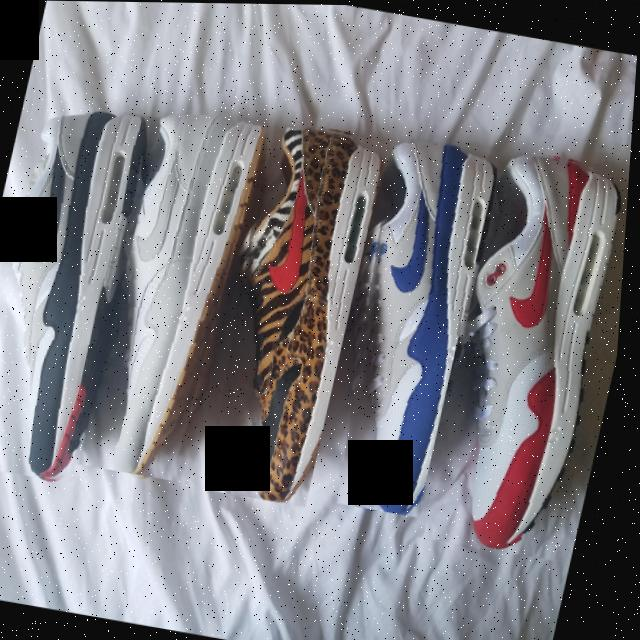shoe: (422, 144, 633, 559), (193, 114, 392, 507), (318, 128, 504, 517), (81, 101, 269, 483), (0, 95, 165, 487)
